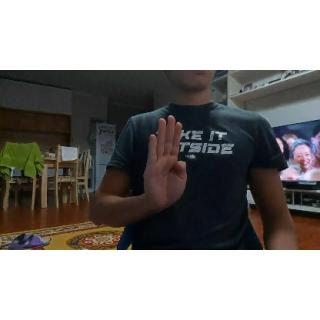KAAF: (140, 108, 191, 210)
